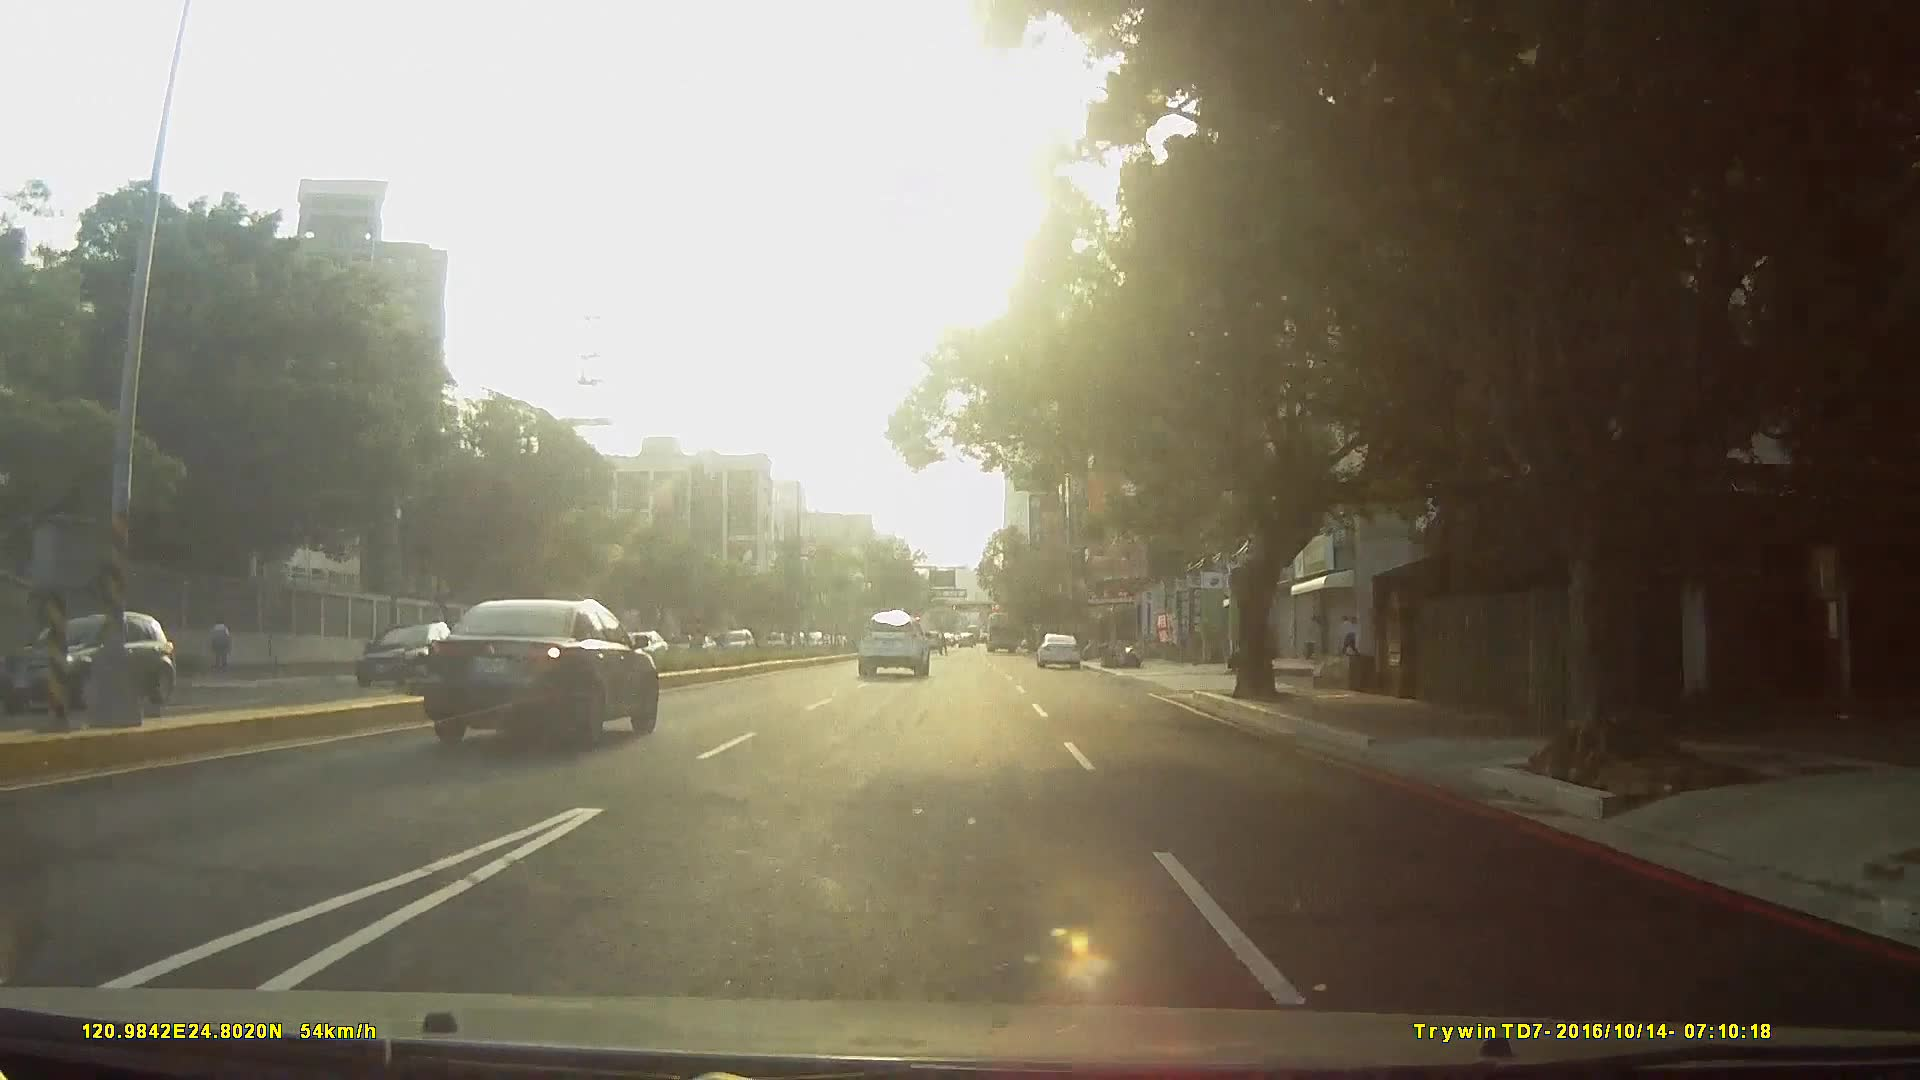pedestrian: (206, 614, 235, 672), (1341, 616, 1361, 661)
vehicle: (425, 593, 662, 749), (7, 606, 183, 722), (344, 618, 475, 687), (856, 604, 932, 675), (1035, 626, 1083, 666), (983, 605, 1022, 650)
